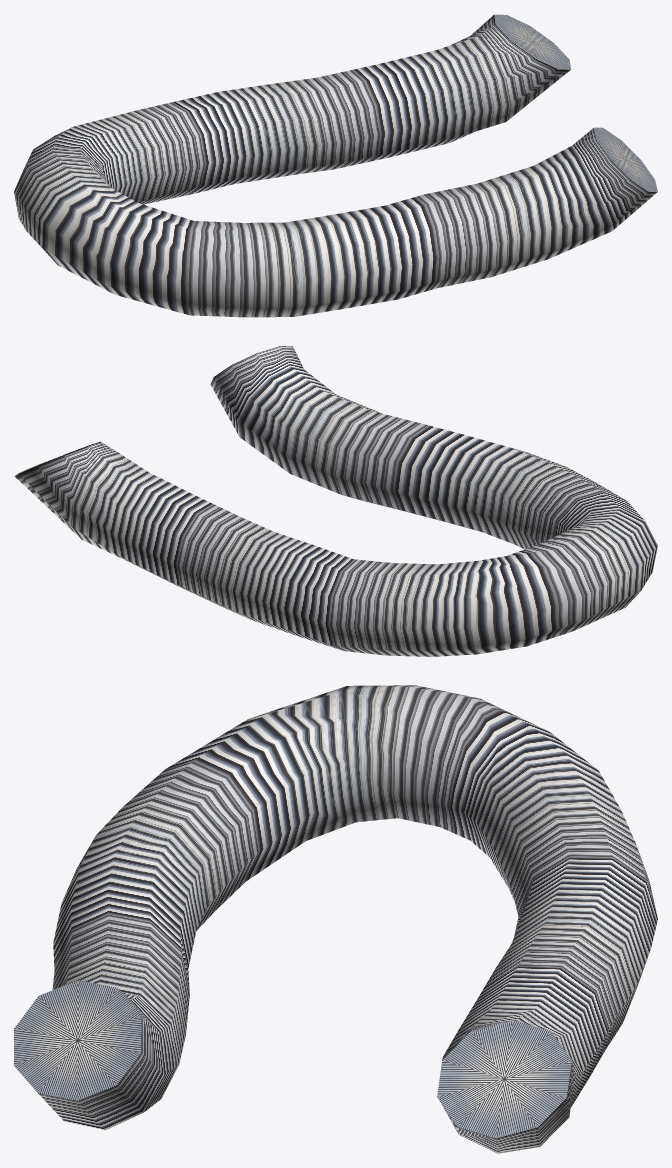
Rendered from HoseBottom 1.fbx.
The picture shows the model from 3 angles, top to bottom: view 1: azimuth 30°, elevation 25°; view 2: azimuth 150°, elevation 25°; view 3: azimuth 270°, elevation 25°; orthographic projection. The views are drawn at different scales.
Parts seen in each view (by area): view 1: polySurface9; view 2: polySurface9; view 3: polySurface9.
Part boxes in pixels (x1,y1,x2,y2): polySurface9: (14,14,657,317); polySurface9: (14,346,657,656); polySurface9: (14,685,657,1153).
Size of the model in its own units: 1.98 by 0.3917 by 1.31.
